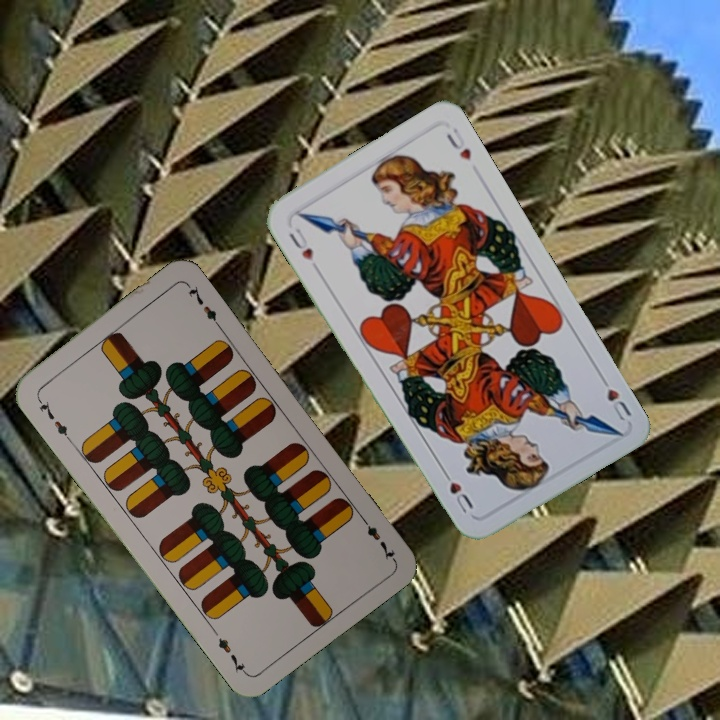E7: (32, 393, 74, 444), (356, 512, 398, 563)
HU: (594, 370, 635, 427), (284, 223, 316, 264)
